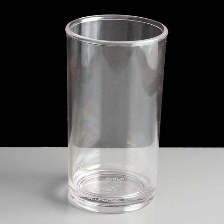glass: (59, 7, 171, 217)
